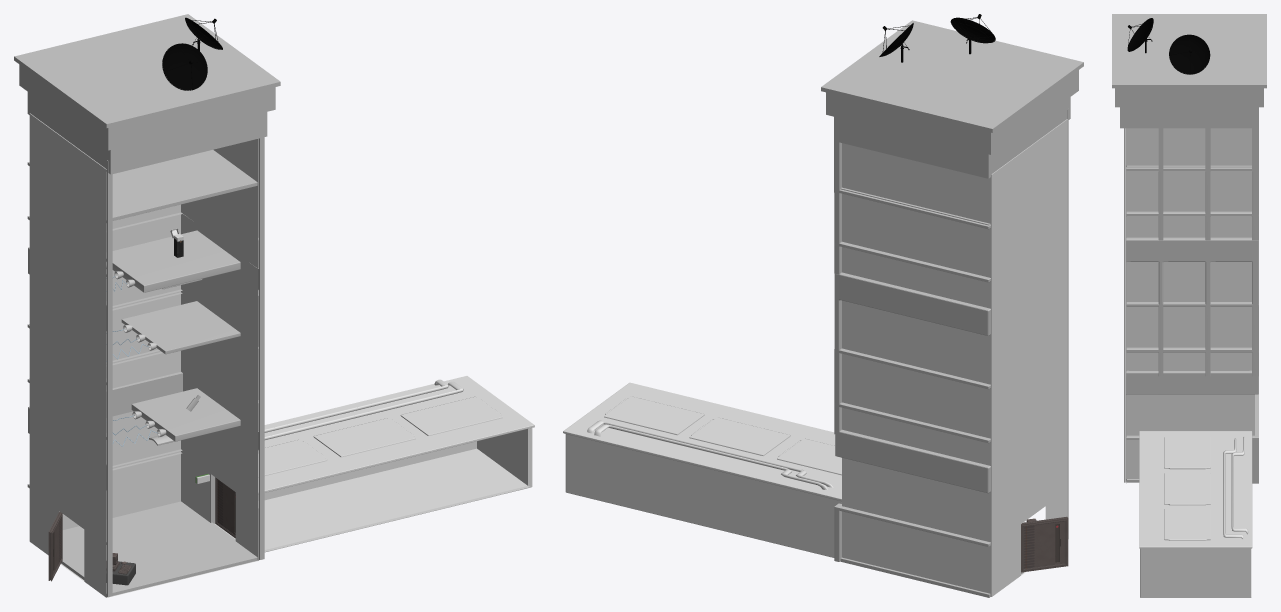
Rendered from LVL_Jetpack.fbx.
3 views of the same model, side by side, from view 1: azimuth 30°, elevation 25°; view 2: azimuth 150°, elevation 25°; view 3: azimuth 270°, elevation 25° (orthographic). The views are drawn at different scales.
Parts seen in each view (by area): view 1: pCube74, pCube76, bat_transition, sol, plafond, etage3, etage2, etage1, tranche1, tranche2, pCube188, pCube187 (+8 smaller); view 2: pCube74, pCube76, bat_transition, armature_tour5, armature_tour6, porte1, pCube188, pCube187, pCube186, armature_tour, armature_tour1, armature_tour3 (+7 smaller); view 3: pCube74, pCube76, bat_transition, armature_tour5, armature_tour6, pCube187, pCube186, armature_tour1, pCube188, armature_tour2, antenne1, armature_tour4 (+7 smaller).
Boxes of the visible parts, x1=… form: pCube74: x1=29, y1=113, x2=258, y2=597; pCube76: x1=14, y1=14, x2=280, y2=223; bat_transition: x1=214, y1=376, x2=534, y2=552; sol: x1=61, y1=501, x2=258, y2=596; plafond: x1=112, y1=150, x2=257, y2=220; etage3: x1=106, y1=230, x2=240, y2=292; etage2: x1=121, y1=301, x2=240, y2=354; etage1: x1=131, y1=388, x2=240, y2=441; tranche1: x1=107, y1=160, x2=112, y2=597; tranche2: x1=259, y1=137, x2=264, y2=559; pCube188: x1=400, y1=396, x2=502, y2=435; pCube187: x1=313, y1=418, x2=415, y2=457; pCube74: x1=842, y1=119, x2=1067, y2=596; pCube76: x1=821, y1=20, x2=1083, y2=193; bat_transition: x1=563, y1=382, x2=841, y2=557; armature_tour5: x1=834, y1=272, x2=990, y2=350; armature_tour6: x1=835, y1=429, x2=990, y2=493; porte1: x1=1021, y1=516, x2=1068, y2=572; pCube188: x1=604, y1=396, x2=704, y2=435; pCube187: x1=689, y1=417, x2=790, y2=455; pCube186: x1=777, y1=438, x2=841, y2=475; armature_tour: x1=834, y1=503, x2=990, y2=561; armature_tour1: x1=834, y1=348, x2=990, y2=404; armature_tour3: x1=834, y1=241, x2=990, y2=282; pCube74: x1=1126, y1=128, x2=1254, y2=481; pCube76: x1=1112, y1=14, x2=1266, y2=171; bat_transition: x1=1139, y1=431, x2=1252, y2=597; armature_tour5: x1=1126, y1=237, x2=1258, y2=304; armature_tour6: x1=1126, y1=370, x2=1258, y2=437; pCube187: x1=1164, y1=473, x2=1210, y2=505; pCube186: x1=1164, y1=437, x2=1210, y2=469; armature_tour1: x1=1126, y1=302, x2=1258, y2=350; pCube188: x1=1164, y1=509, x2=1210, y2=540; armature_tour2: x1=1126, y1=167, x2=1258, y2=214; antenne1: x1=1169, y1=34, x2=1210, y2=74; armature_tour4: x1=1126, y1=347, x2=1258, y2=376.
Bounding box in the file's own units: 50.89 × 54.54 × 17.53.
